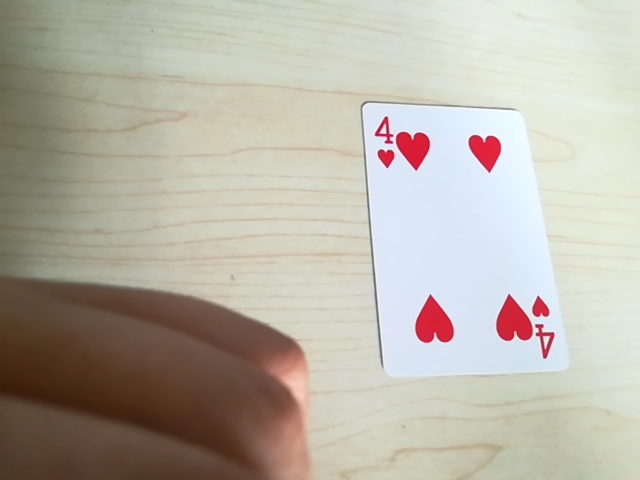hx 4: (369, 112, 417, 175), (515, 299, 556, 361)
